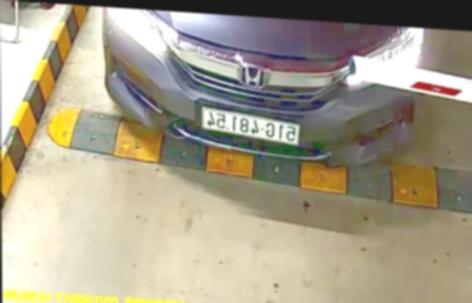License_Plate: (199, 108, 302, 149)
